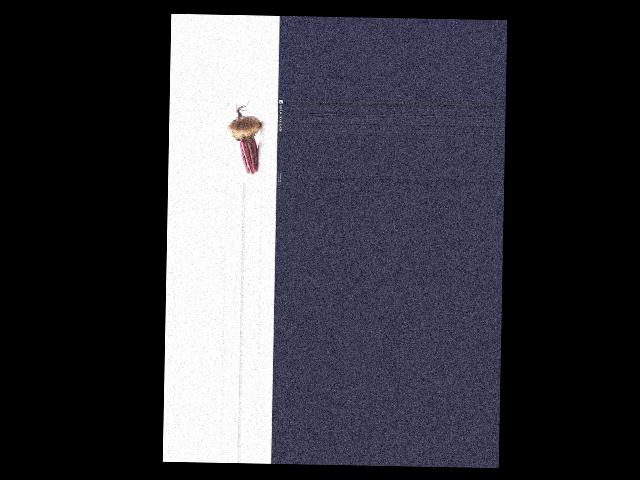beet: (226, 100, 261, 174)
